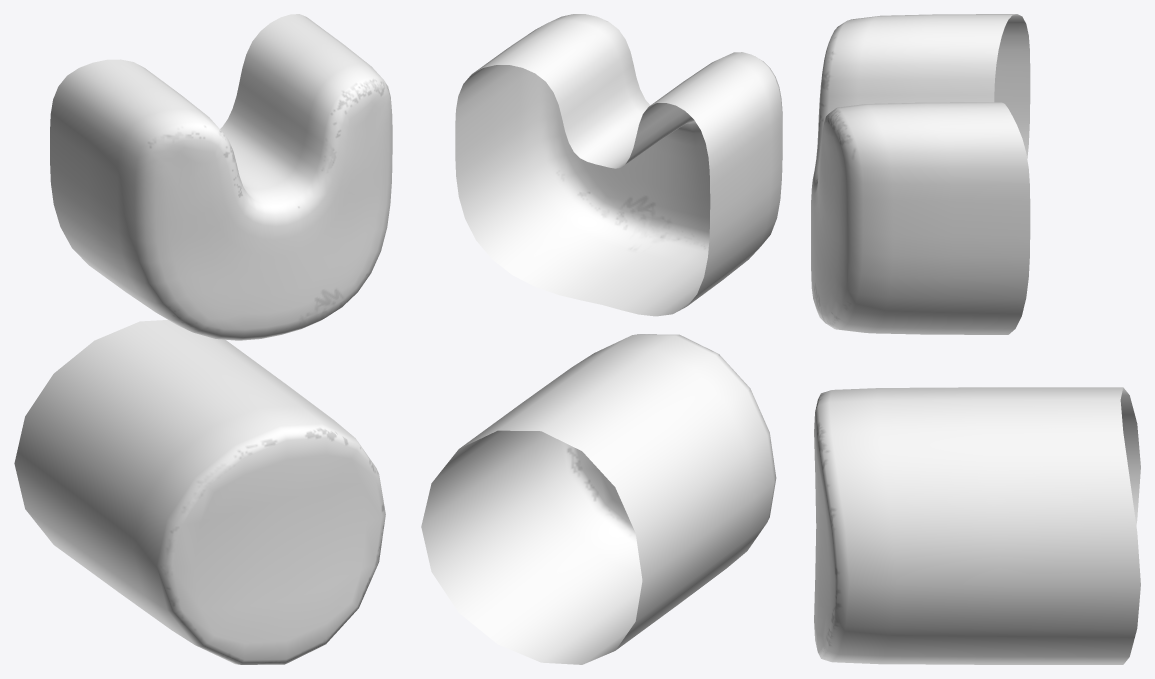
File: NEWJEANS_03.glb
3 renders of one model, left to right at view 1: azimuth 30°, elevation 25°; view 2: azimuth 150°, elevation 25°; view 3: azimuth 270°, elevation 25°, orthographic. The views are drawn at different scales.
Visible parts, largest first — view 1: NEWJEANS_03; view 2: NEWJEANS_03; view 3: NEWJEANS_03.
Boxes of the visible parts, x1=… form: NEWJEANS_03: x1=14, y1=14, x2=392, y2=664; NEWJEANS_03: x1=421, y1=14, x2=782, y2=664; NEWJEANS_03: x1=811, y1=14, x2=1140, y2=664.
Size of the model in its own units: 0.0295 by 0.0596 by 0.0303.
1 material, 1 textured.
